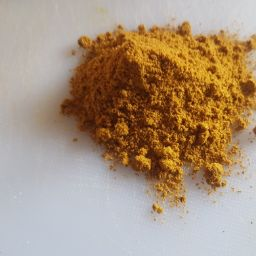Curry powder: (35, 22, 256, 224), (52, 12, 256, 182), (105, 44, 224, 149)
